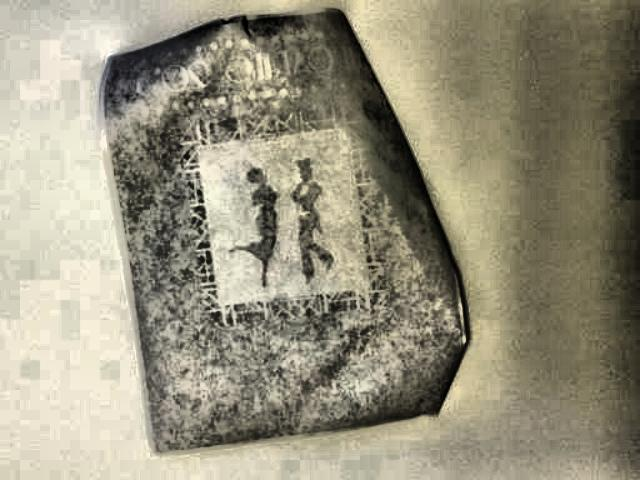Paper: (93, 7, 473, 452)
